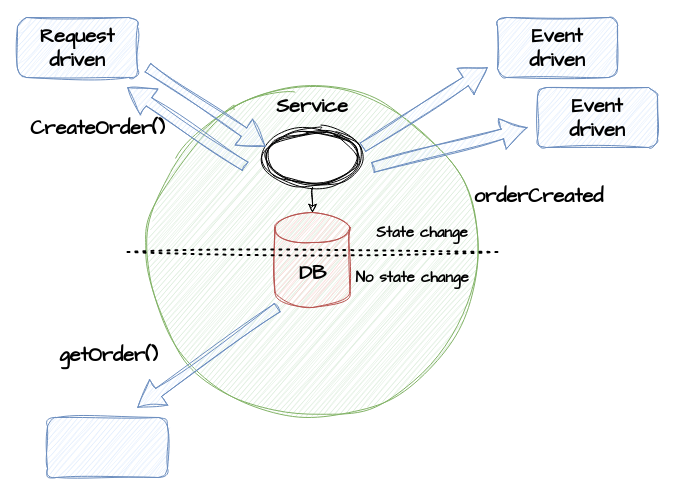
Some shapes in this 675 by 495 pixel diagram are drawn without their labels. The centre of each missing label's shape, as x and y in pixels:
"Logic" belongs at (312,157).
"Query" belongs at (107,447).
